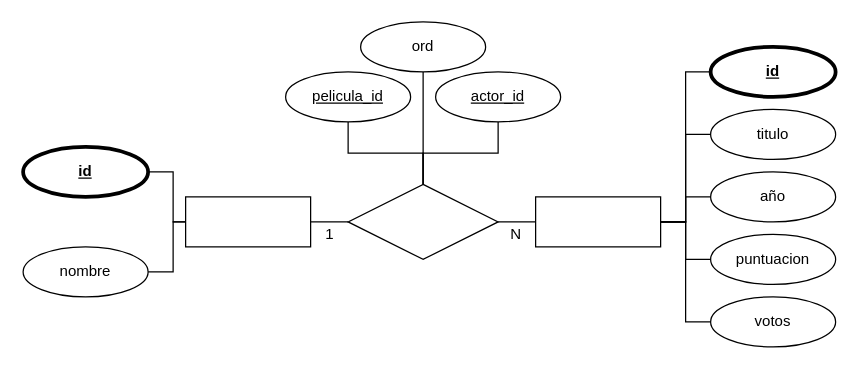
The diagram is 859 pixels wide and 369 high, and some of its shapes have lost their labels. Here are the shapes that lost their labels. From the top down, the centre of each, then its label:
point 247,221: actor
point 422,221: reparto
point 597,221: pelicula
